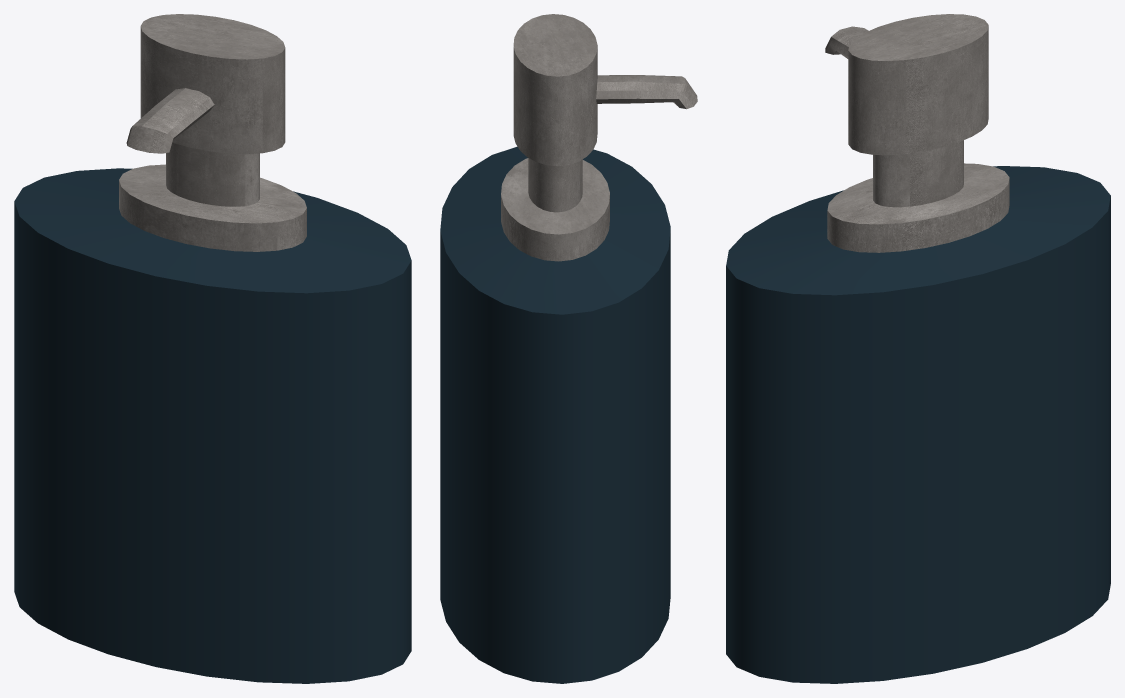
The model's file is Jabonera.fbx.
The picture shows the model from 3 angles, left to right: view 1: azimuth 30°, elevation 25°; view 2: azimuth 150°, elevation 25°; view 3: azimuth 270°, elevation 25°; orthographic projection. The views are drawn at different scales.
Parts seen in each view (by area): view 1: jabonera1; view 2: jabonera1; view 3: jabonera1.
Boxes of the visible parts, bbox=[...] form: jabonera1: bbox=[14, 14, 411, 683]; jabonera1: bbox=[440, 14, 697, 683]; jabonera1: bbox=[726, 14, 1110, 683].
Bounding box in the file's own units: 0.2406 × 0.5044 × 0.3023.
2 materials, 1 textured.
